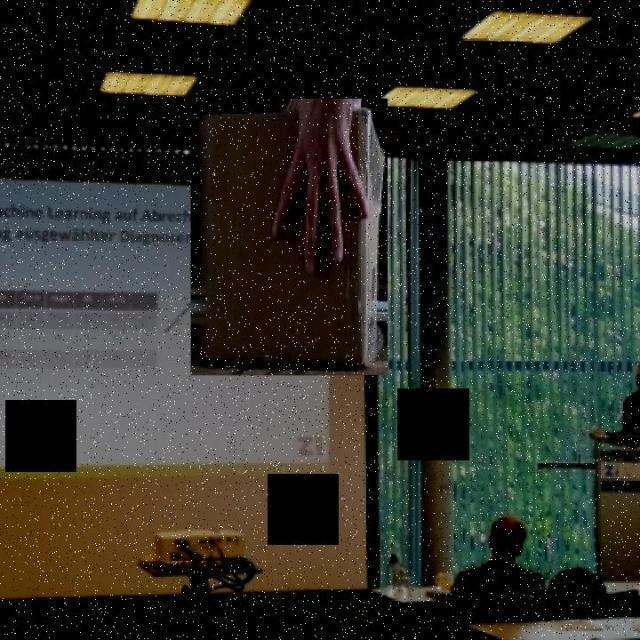box: (188, 95, 392, 381)
